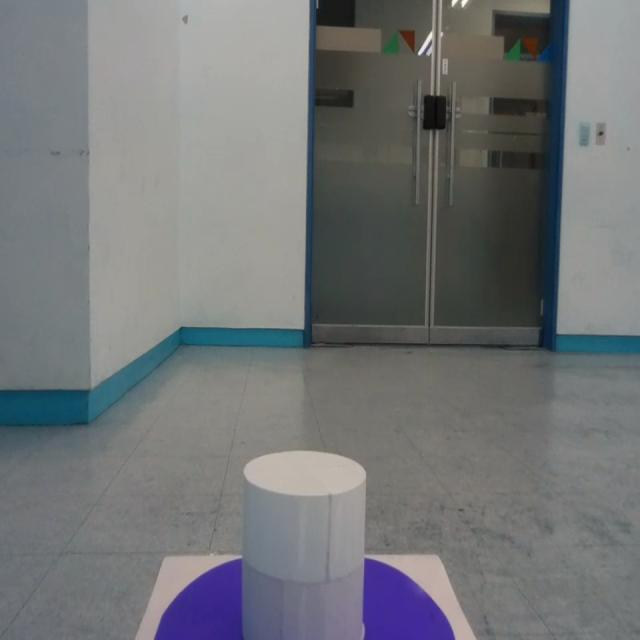cylinder: (241, 451, 367, 640)
